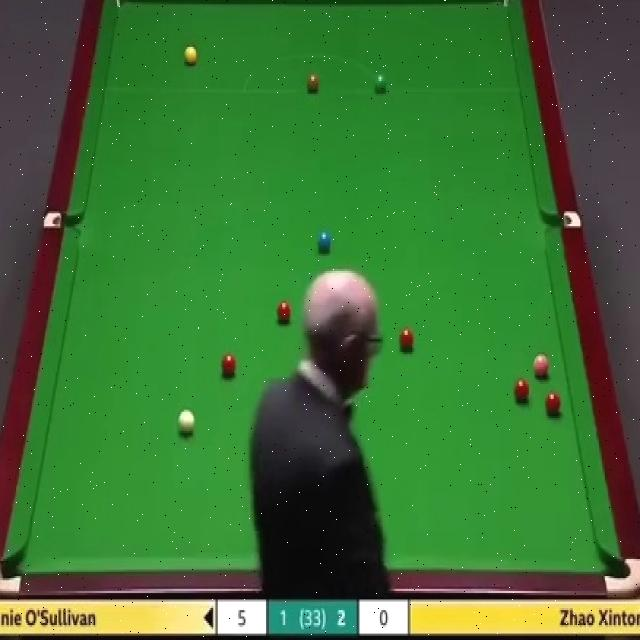blue-ball: (316, 229, 332, 252)
brown-ball: (306, 72, 320, 94)
green-ball: (374, 74, 387, 92)
pink-ball: (533, 352, 550, 379)
red-ball: (220, 352, 238, 381), (514, 378, 532, 403), (545, 392, 563, 416), (400, 326, 415, 353), (276, 301, 292, 324)
white-ball: (177, 409, 196, 436)
yellow-ball: (184, 46, 198, 68)
